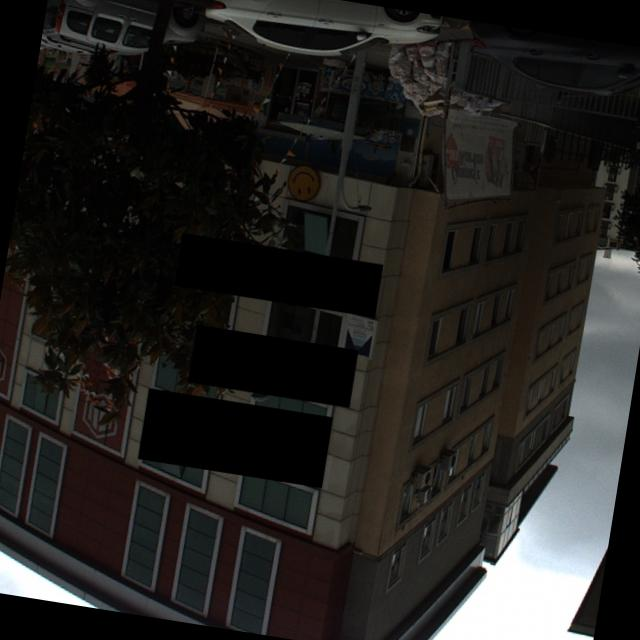SignStore: (143, 387, 327, 486), (179, 238, 381, 316), (191, 327, 355, 406)
